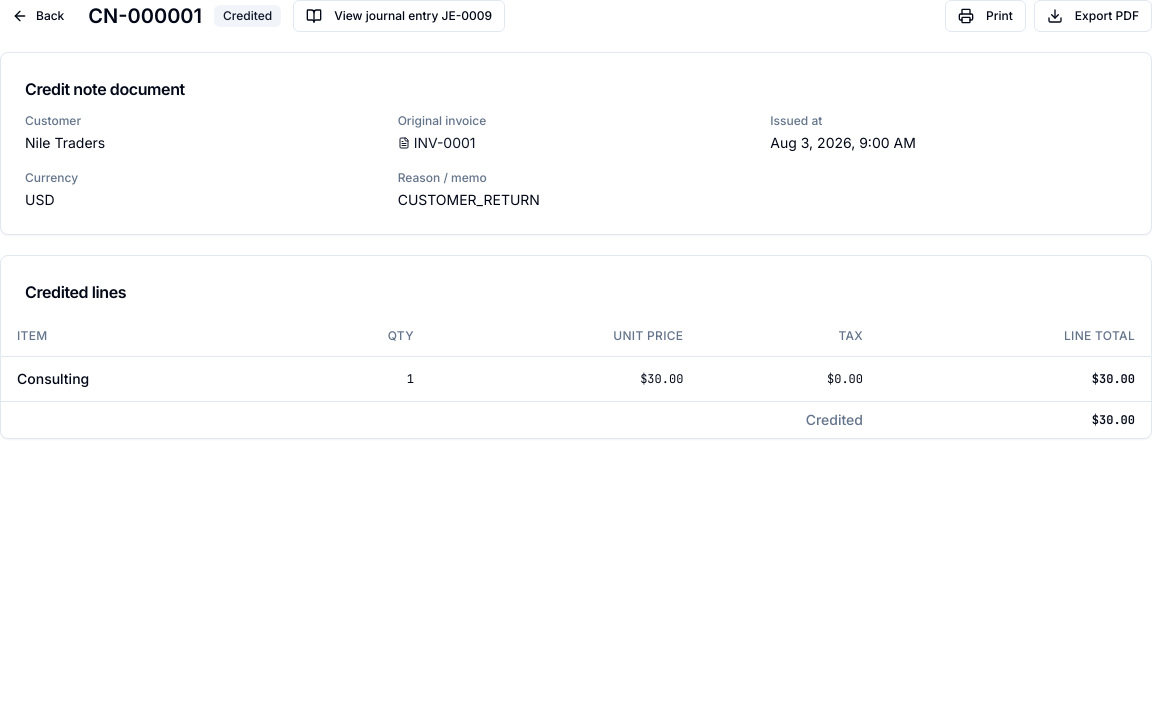
Test: CreditNoteDetailView (ACC-10) — credit-note document › opens the reversal journal entry modal in place (ACC-10)
What coordinates should you click on to do the following:
click the button "View journal entry JE-0009"
I would click on:
 (399, 16)
Its box is [293,0,505,32].
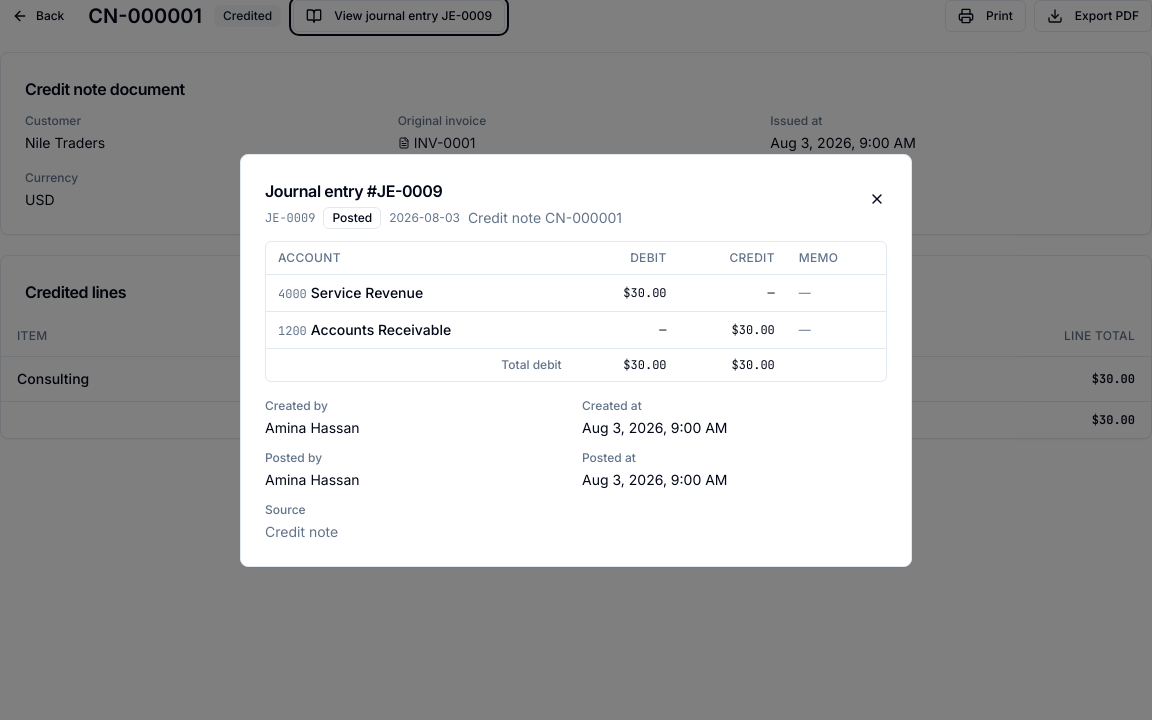
Expected: the dialog is shown
Expected: the text "Accounts Receivable" is shown, [311,320,451,338]
